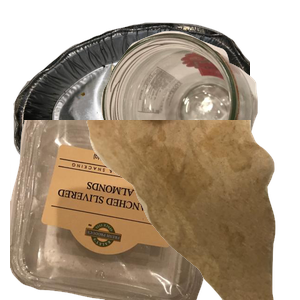glass: (98, 29, 300, 198)
metal: (11, 20, 251, 200)
plastic: (10, 120, 227, 300)
trash: (84, 120, 300, 300)
